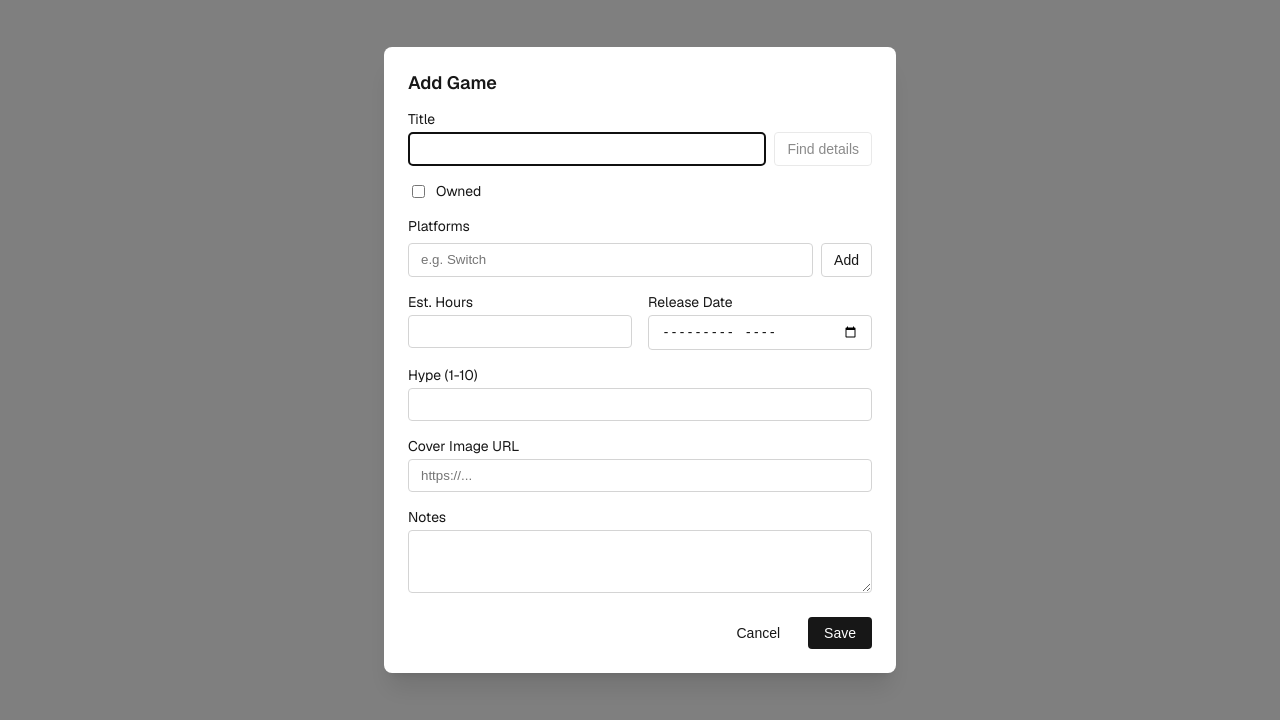
it: GameFormModal › shows a validation error and does not submit when title is empty
This screenshot has width=1280, height=720.
Click the button "Save" at point(840, 633), box [808,617,872,649]
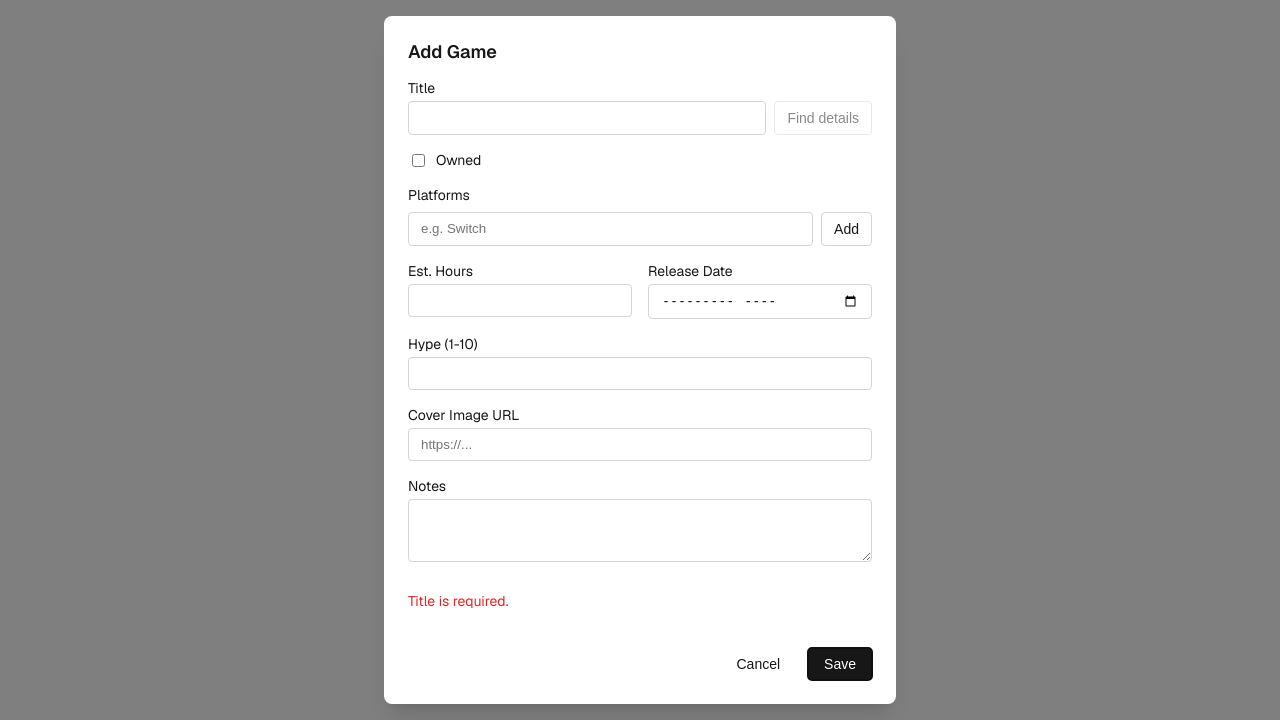
Result: the text "Title is required." is shown at [408,592,508,610]
